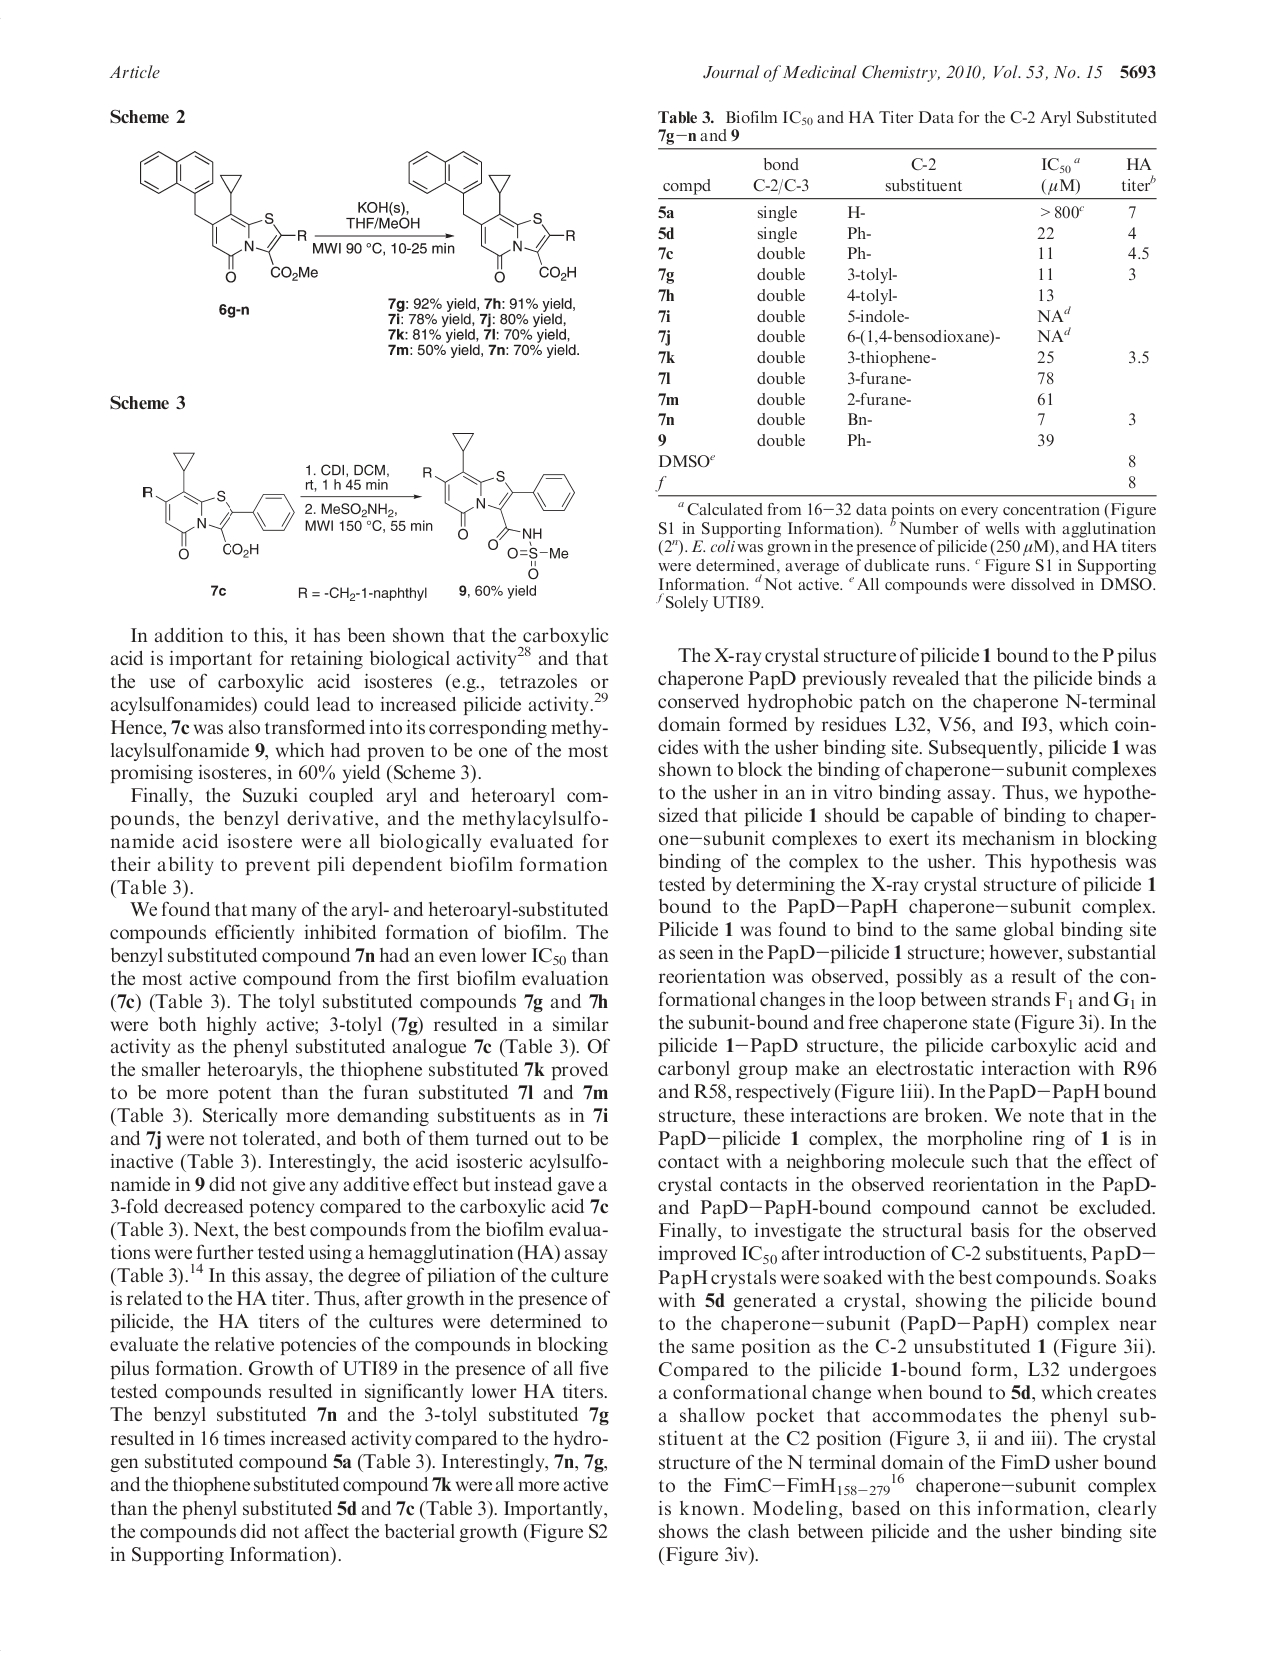exist_molecular: (136, 148, 318, 285), (420, 428, 578, 584), (407, 148, 581, 286), (140, 448, 299, 559)
